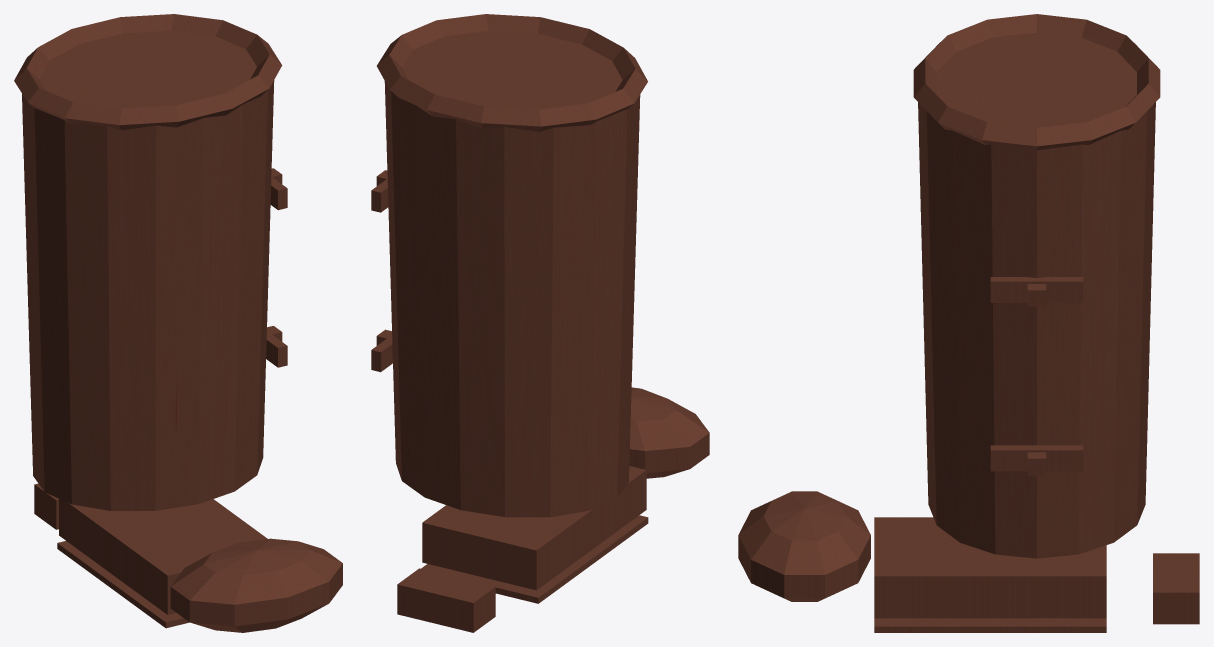
Rendered from boots.fbx.
The picture shows the model from 3 angles, left to right: view 1: azimuth 30°, elevation 25°; view 2: azimuth 150°, elevation 25°; view 3: azimuth 270°, elevation 25°; orthographic projection. The views are drawn at different scales.
Parts seen in each view (by area): view 1: boots; view 2: boots; view 3: boots.
Part boxes in pixels (<box>): boots: <box>14,14,342,632</box>; boots: <box>371,14,709,632</box>; boots: <box>738,14,1199,632</box>.
Size of the model in its own units: 0.133 by 0.2535 by 0.1985.
Materials: 1 (1 with a texture image).
